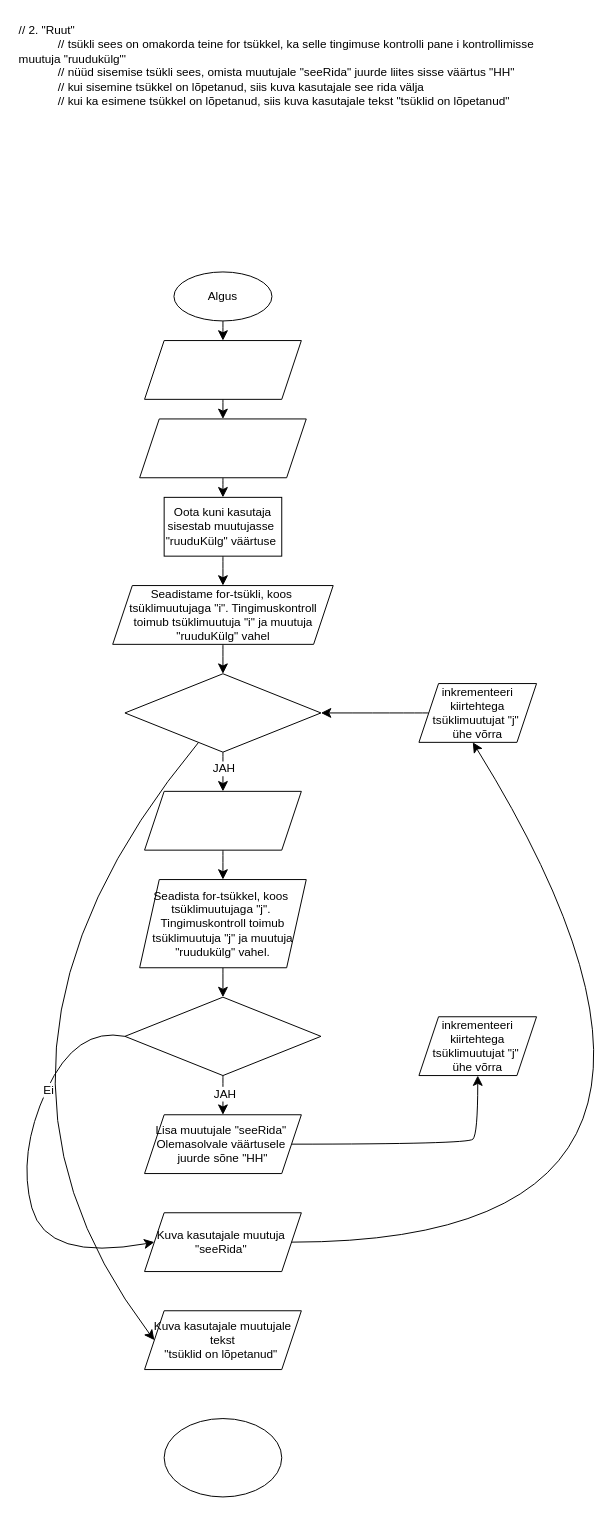
The diagram is 611 pixels wide and 1514 high, and some of its shapes have lost their labels. The centre of each missing label's shape, as x and y in pixels:
Kas tsüklimuutuja "i" on väiksem kui muutuja "ruuduKülg" väärtus?: point 222,712
Kas tsüklimuutuja "j" on väiksem kui muutuja "ruuduKülg" väärtus?: point 222,1036
Kuva kasutajale tekst "Kui suurt ruutu tahad näha?": point 222,448
Tekita muutuja "seeRida" millele omistame algväärtuseks "".: point 222,820
Tekitame muutuja "ruuduKülg" kuhu omistame algväärtuseks täisarvu 0: point 222,369
